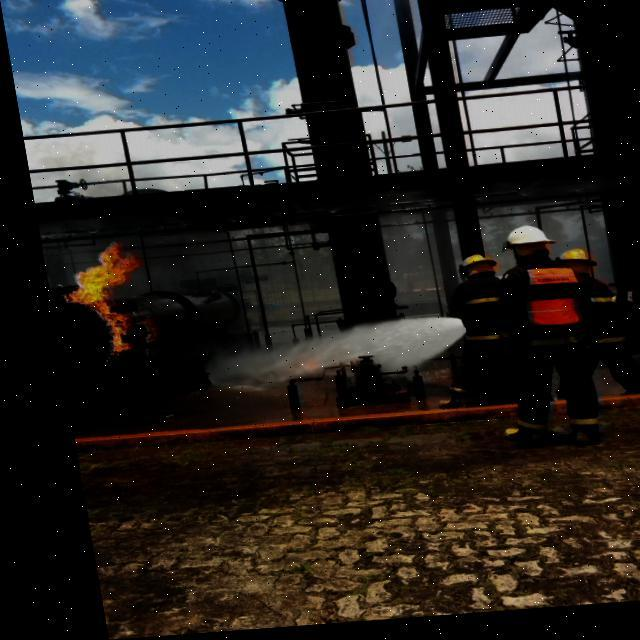Fire: (46, 238, 158, 366)
